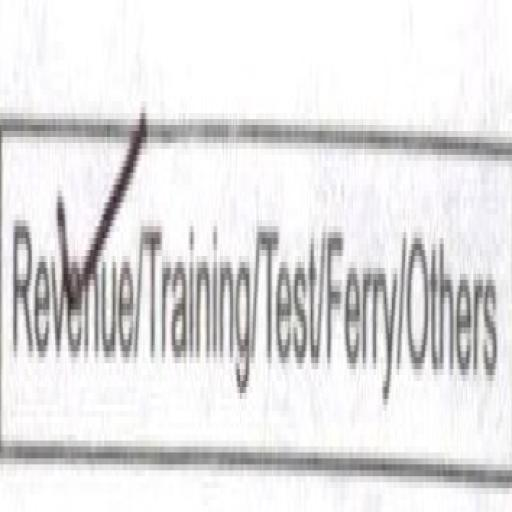check: (0, 20, 140, 512)
